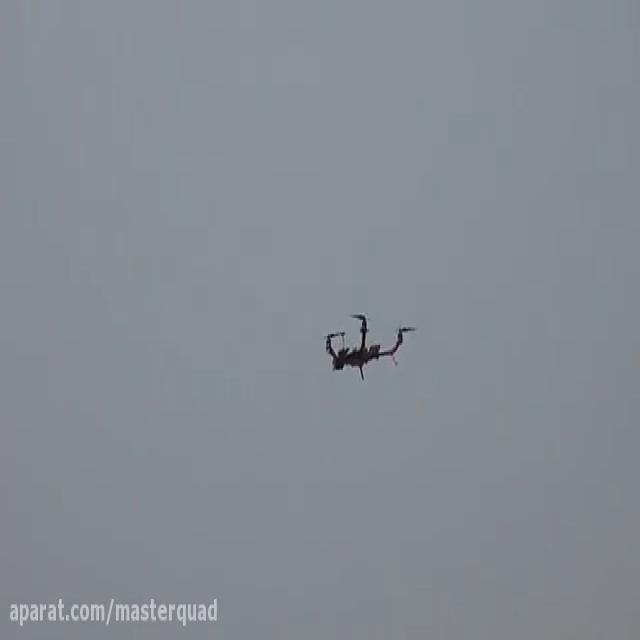drone: (318, 304, 419, 384)
